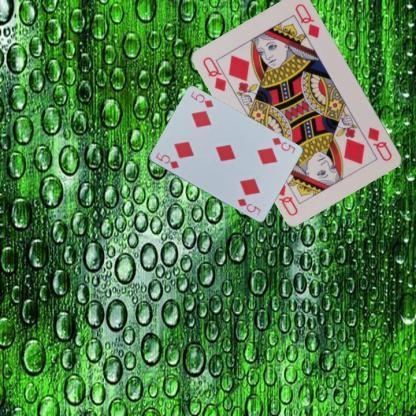5d: (153, 149, 180, 170), (270, 134, 297, 154)
Qd: (200, 54, 236, 93), (365, 124, 394, 163)
